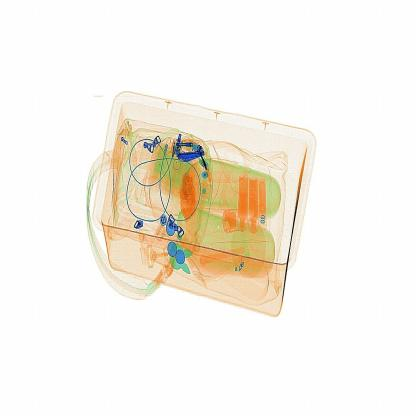knife: (174, 141, 211, 172)
